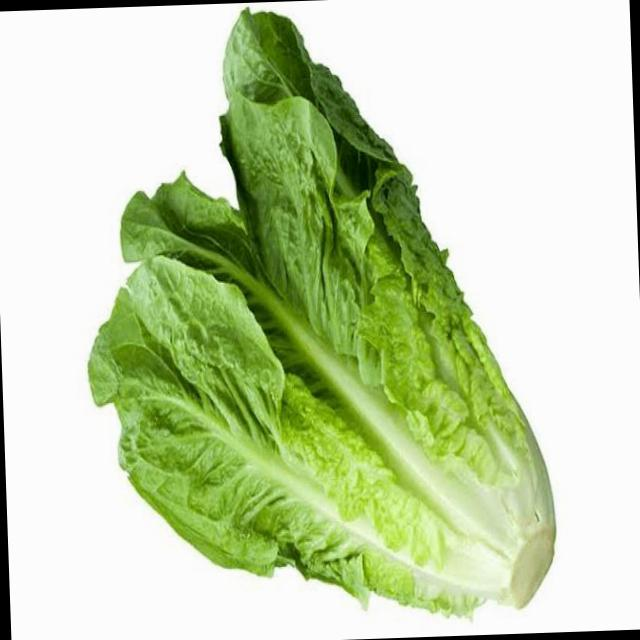Lettuce-Ready-to-Harvest: (89, 10, 555, 613)
